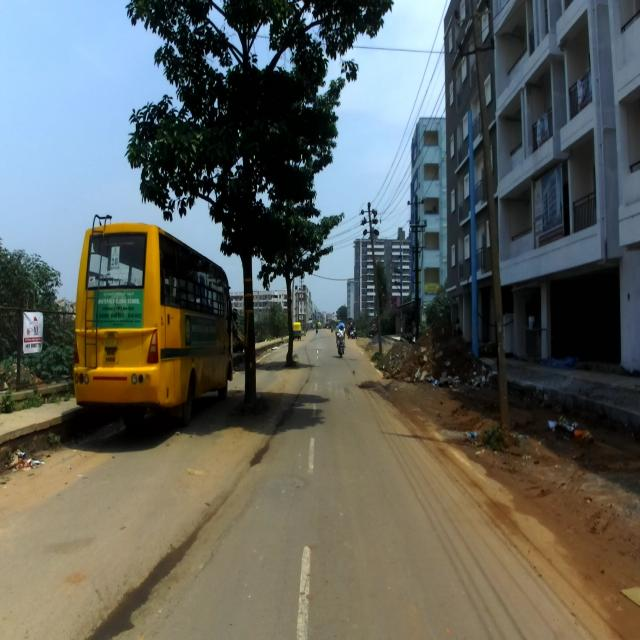mini-bus: (73, 213, 237, 431)
